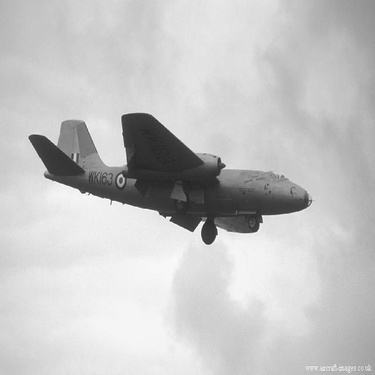airplane: (15, 76, 321, 245)
